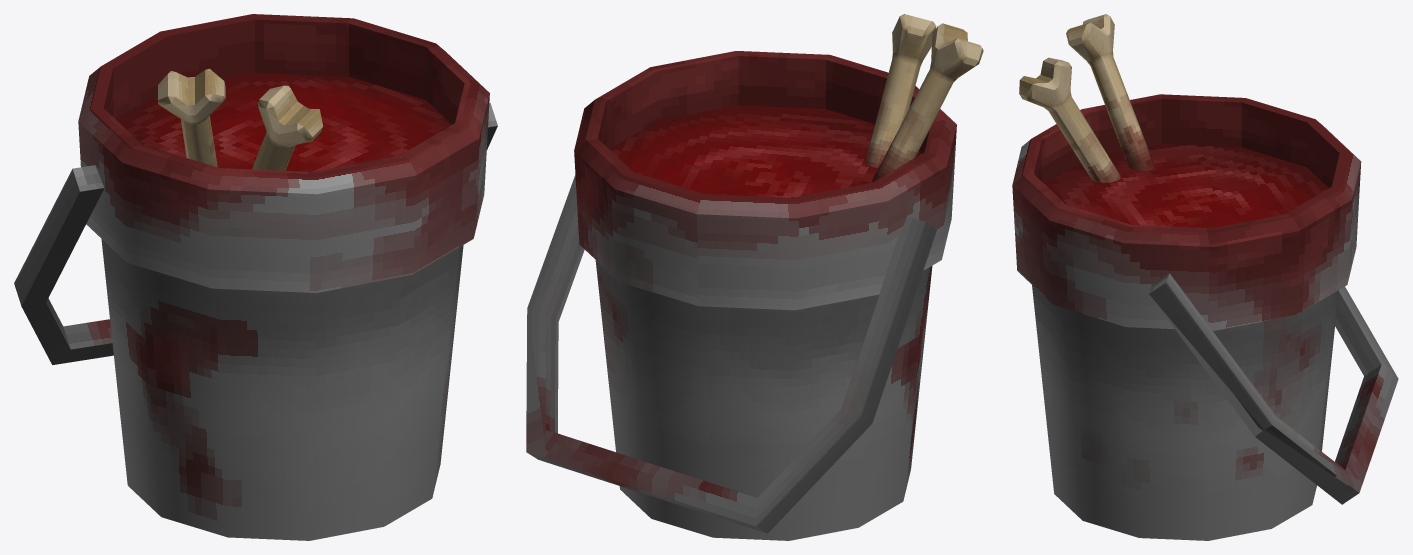
The model's file is bucket.glb.
The picture shows the model from 3 angles, left to right: view 1: azimuth 30°, elevation 25°; view 2: azimuth 150°, elevation 25°; view 3: azimuth 270°, elevation 25°; orthographic projection. The views are drawn at different scales.
Parts seen in each view (by area): view 1: Object_2; view 2: Object_2; view 3: Object_2.
Part boxes in pixels (<box>): Object_2: <box>14,14,497,540</box>; Object_2: <box>526,14,983,540</box>; Object_2: <box>1012,14,1398,540</box>.
Size of the model in its own units: 3.83 by 4.39 by 3.78.
Materials: 1 (1 with a texture image).
